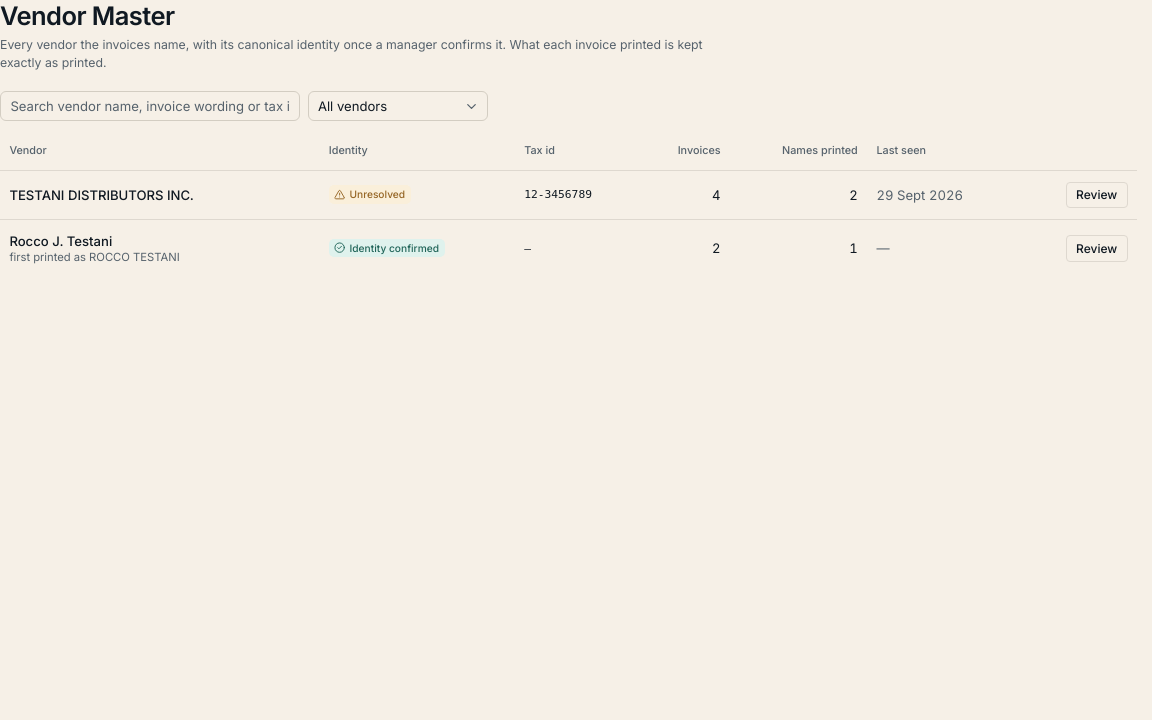
Test: Vendor review › shows the source evidence: printed names, tax ids, address and recent invoices
Step 1. Click the button "Review" in the row of "TESTANI DISTRIBUTORS INC." → (1097, 195), box [1066,182,1128,208]
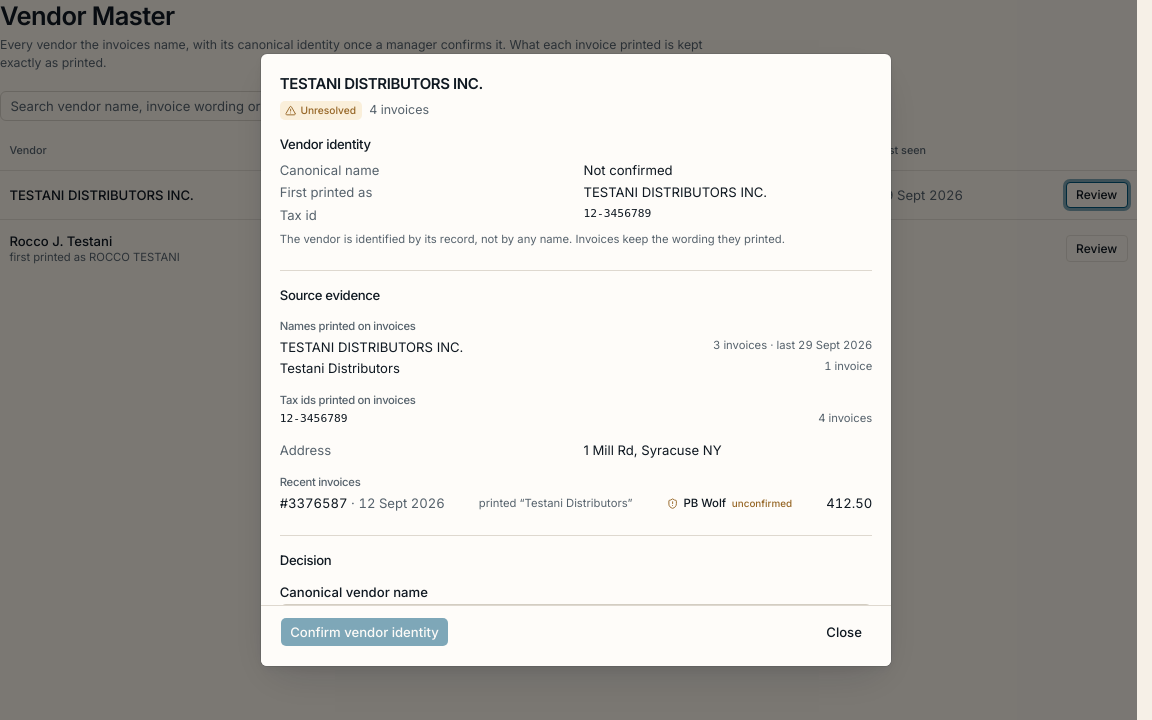
Check: the text "Testani Distributors" is shown, box [280,359,400,378]
Check: the text "12-3456789" below "Canonical name" is shown, box [584,207,651,220]
Check: the text "1 Mill Rd, Syracuse NY" is shown, box [584,442,722,458]
